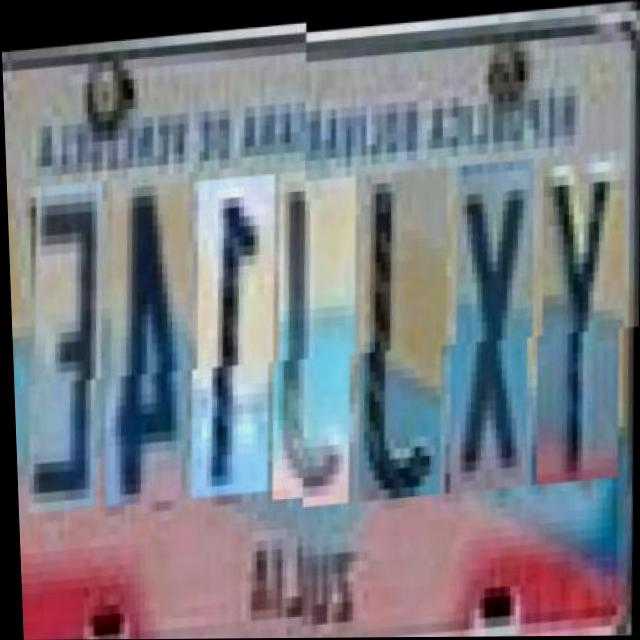1: (182, 178, 279, 500)
4: (96, 184, 192, 506)
e: (19, 181, 106, 513)
j: (350, 165, 452, 497), (263, 171, 360, 504)
x: (441, 158, 538, 491)
y: (528, 151, 630, 484)
